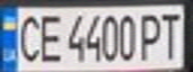0: (118, 10, 139, 62), (100, 11, 121, 62)
4: (63, 10, 87, 63), (81, 10, 103, 62)
C: (12, 10, 45, 64)
E: (33, 11, 66, 64)
P: (136, 10, 166, 61)
T: (157, 9, 184, 61)
